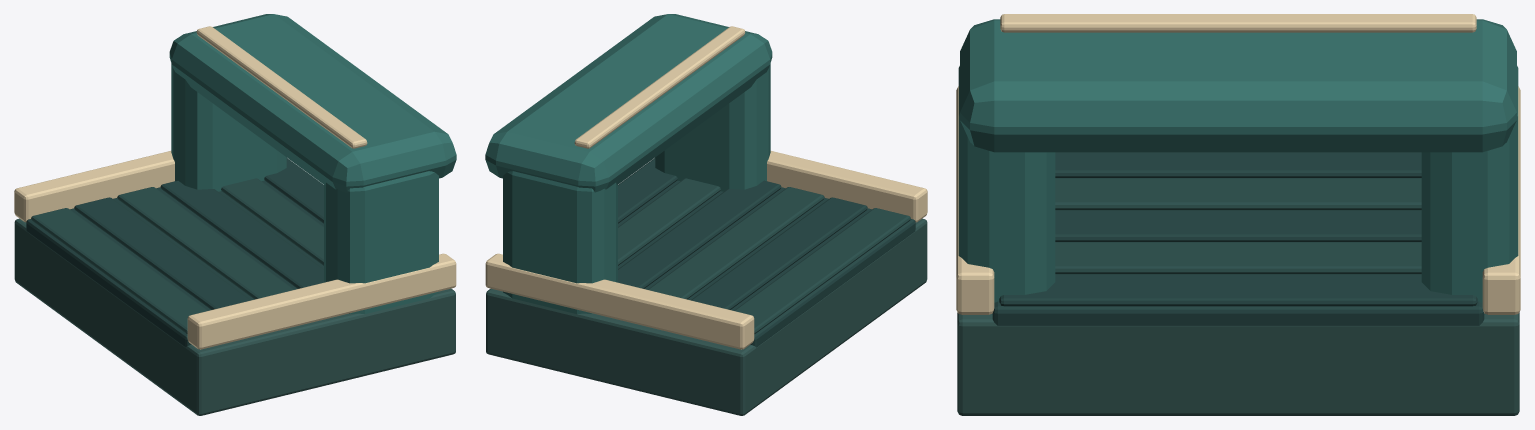
The model's file is Belt_Return_Tunnel.fbx.
3 renders of one model, left to right at view 1: azimuth 30°, elevation 25°; view 2: azimuth 150°, elevation 25°; view 3: azimuth 270°, elevation 25°, orthographic. The views are drawn at different scales.
Visible parts, largest first — view 1: Body, Slats, BeltSurface; view 2: Body, Slats, BeltSurface; view 3: Body, Slats, BeltSurface.
Boxes of the visible parts, x1,y1,x2,y2 form: Body: [14, 14, 456, 415]; Slats: [31, 158, 323, 333]; BeltSurface: [26, 180, 323, 347]; Body: [485, 14, 927, 415]; Slats: [618, 158, 910, 333]; BeltSurface: [618, 180, 915, 347]; Body: [956, 14, 1520, 415]; Slats: [999, 152, 1477, 306]; BeltSurface: [992, 301, 1484, 325].
Size of the model in its own units: 1.03 by 0.8235 by 1.24.
